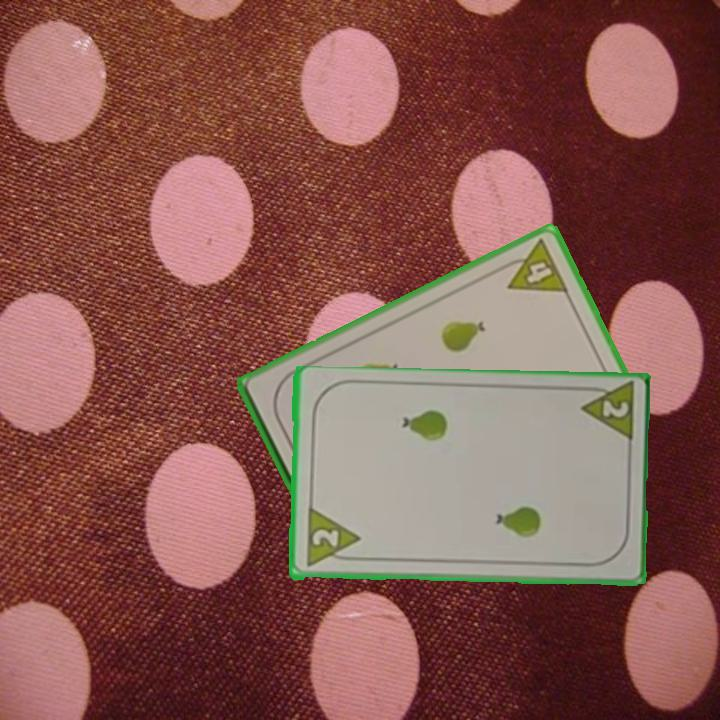2p: (576, 381, 637, 446), (302, 507, 362, 571)
4p: (495, 235, 572, 296)
